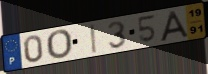0: (22, 33, 45, 65)
3: (106, 20, 128, 50)
5: (136, 14, 158, 44)
A: (159, 9, 191, 43)
I: (88, 23, 98, 56)
O: (44, 29, 73, 61)
